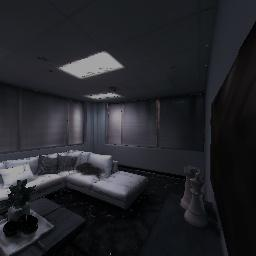sofa: (0, 137, 152, 219)
table: (0, 180, 97, 256)
